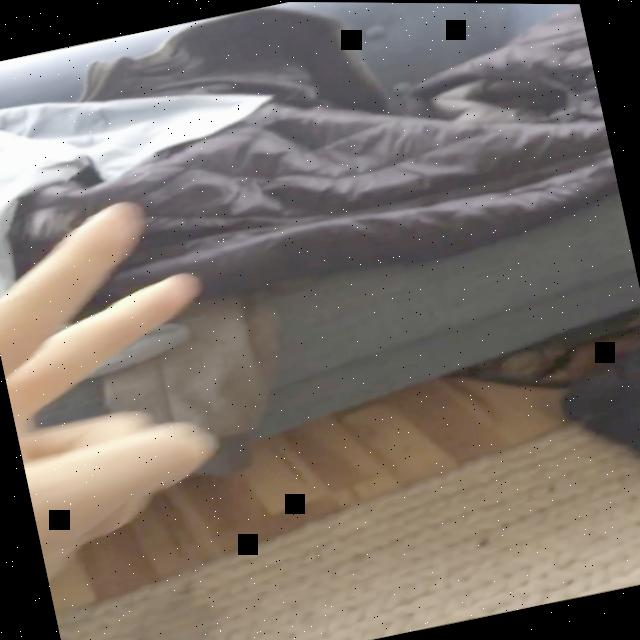Scissors: (0, 189, 246, 574)
